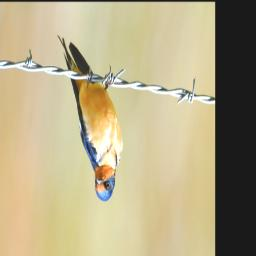Swallow: (58, 34, 124, 203)
